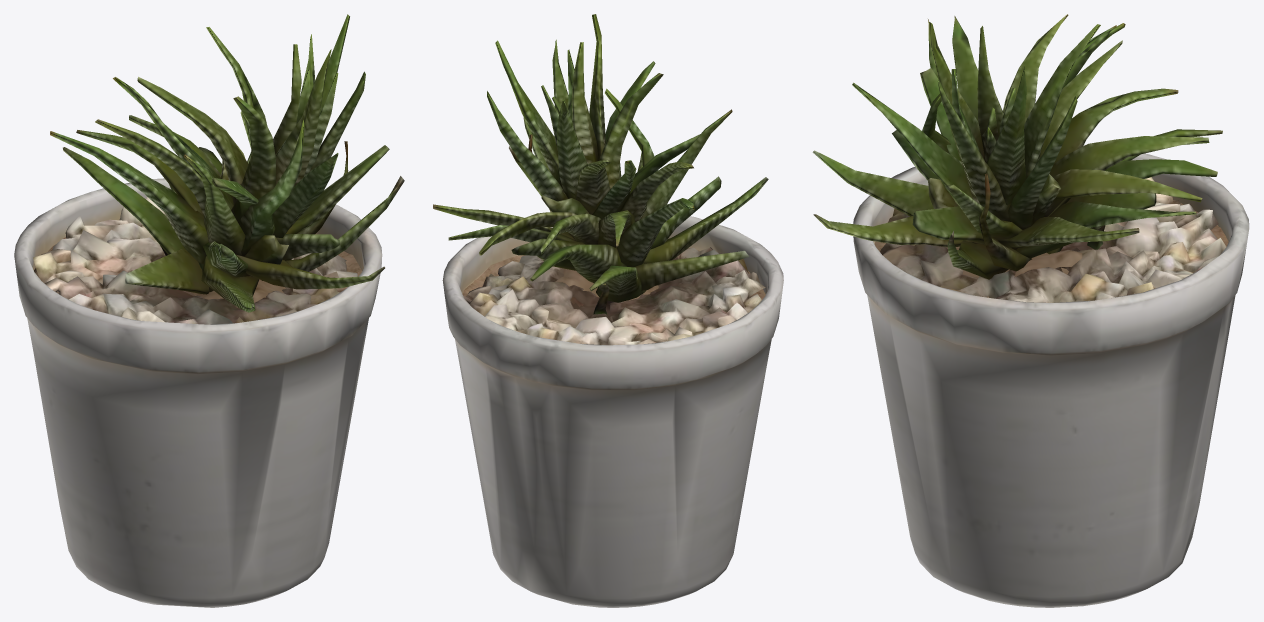
The model's file is potted_plant_04.glb.
The picture shows the model from 3 angles, left to right: view 1: azimuth 30°, elevation 25°; view 2: azimuth 150°, elevation 25°; view 3: azimuth 270°, elevation 25°; orthographic projection. The views are drawn at different scales.
Parts seen in each view (by area): view 1: potted_plant_04_ground; view 2: potted_plant_04_ground; view 3: potted_plant_04_ground.
Boxes of the visible parts, x1,y1,x2,y2 form: potted_plant_04_ground: (14,14,404,607); potted_plant_04_ground: (433,14,783,607); potted_plant_04_ground: (812,14,1249,607).
Bounding box in the file's own units: 0.1664 × 0.2672 × 0.1841.
Materials: 1 (1 with a texture image).
